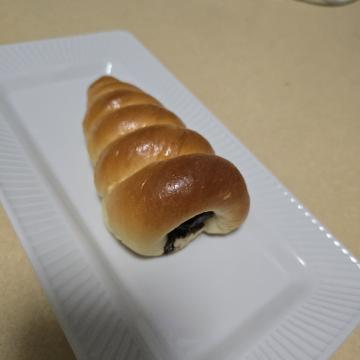cream horn: (60, 105, 279, 289)
